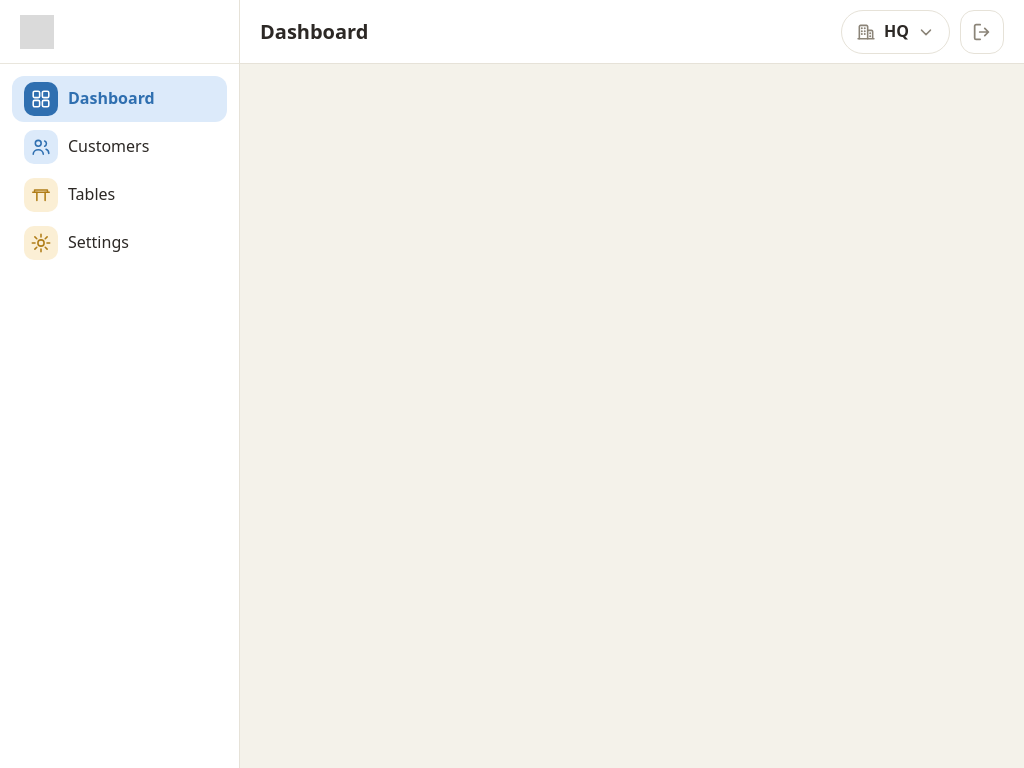
Test: AppShell › closes the picker on Escape, so it cannot get stuck open on a tablet
Click the button "HQ".
click(896, 32)  # box [841,10,950,54]
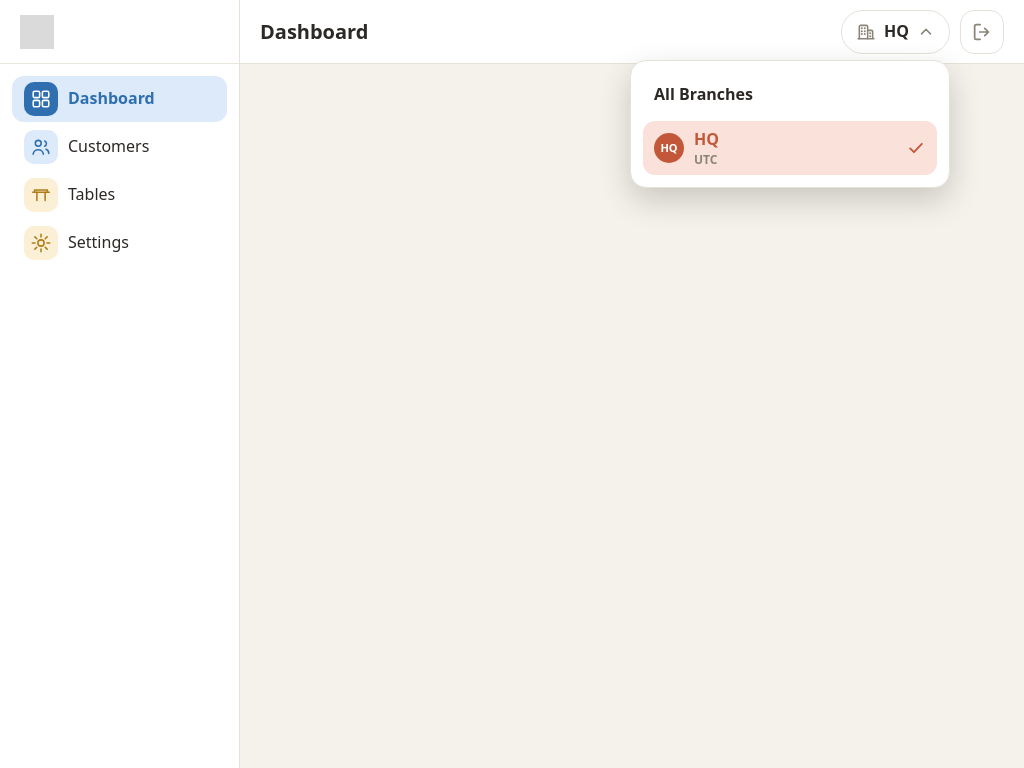
Now the button "HQ" is expanded, box [841,10,950,54]
Press Escape
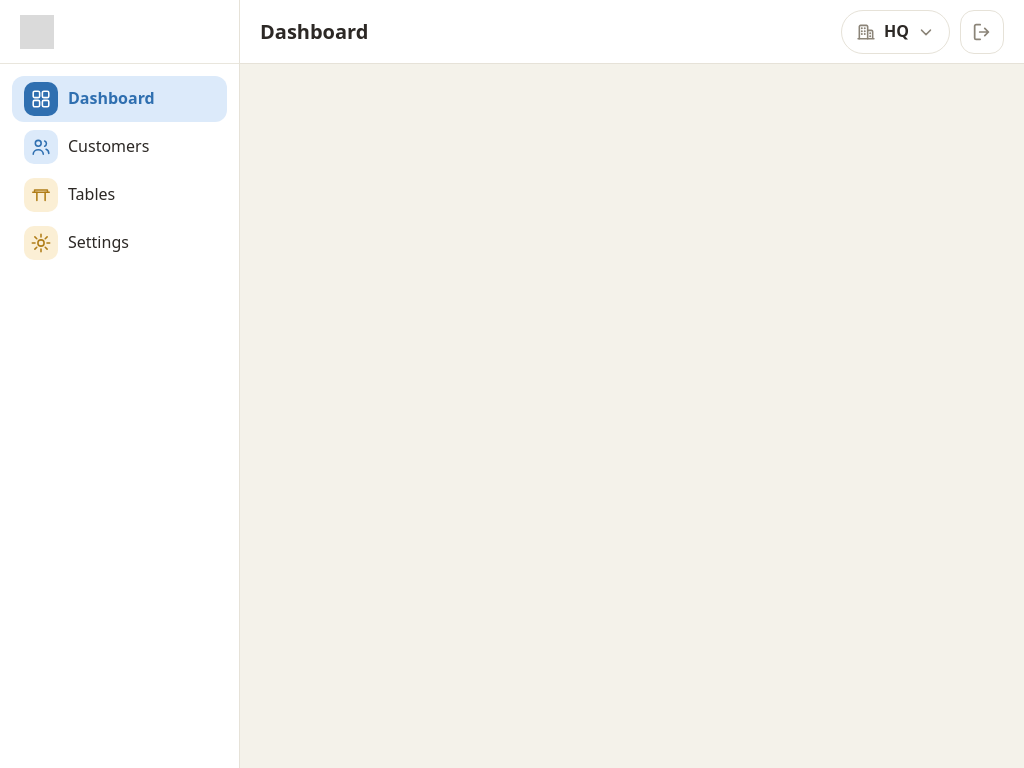
Now the button "HQ" is collapsed, box [841,10,950,54]
